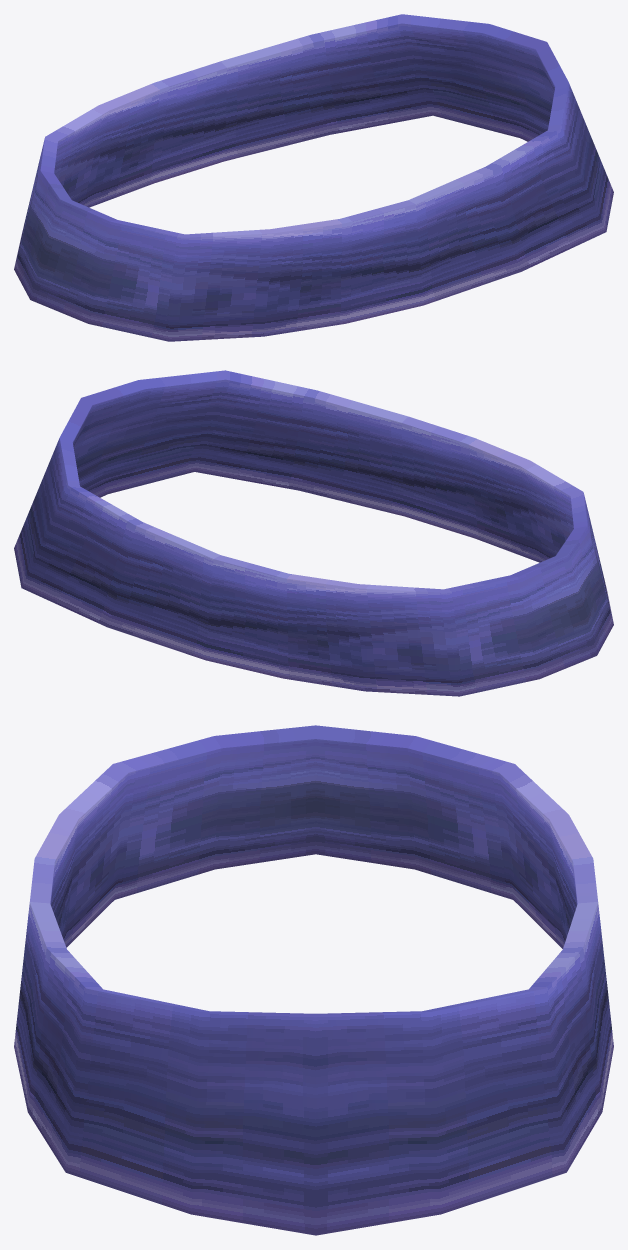
The picture shows the model from 3 angles, top to bottom: view 1: azimuth 30°, elevation 25°; view 2: azimuth 150°, elevation 25°; view 3: azimuth 270°, elevation 25°; orthographic projection. The views are drawn at different scales.
Size of the model in its own units: 0.2578 by 0.0604 by 0.1636.
1 material, 1 textured.
